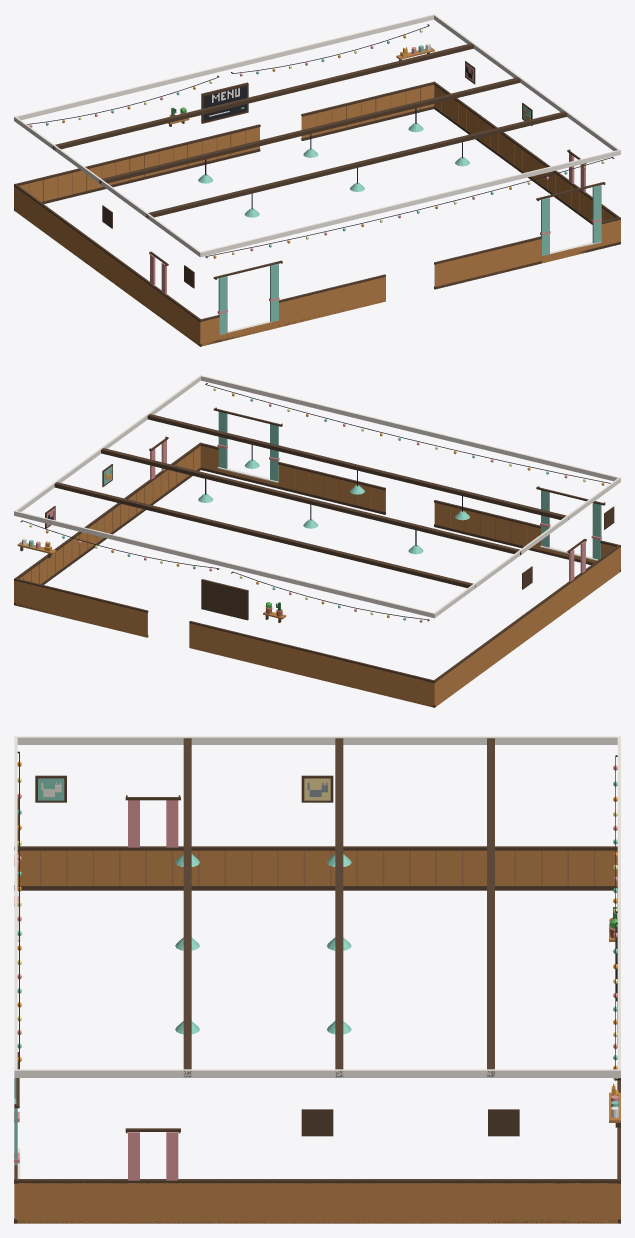
The model's file is CatCafe_Plot_Interior_60x46.glb.
The picture shows the model from 3 angles, top to bottom: view 1: azimuth 30°, elevation 25°; view 2: azimuth 150°, elevation 25°; view 3: azimuth 270°, elevation 25°; orthographic projection. The views are drawn at different scales.
Visible parts, largest first — view 1: CatCafe_Plot_Interior_60x46, CatCafe_Plot_Interior_60x46_StringLights_Bulbs; view 2: CatCafe_Plot_Interior_60x46, CatCafe_Plot_Interior_60x46_StringLights_Bulbs; view 3: CatCafe_Plot_Interior_60x46, CatCafe_Plot_Interior_60x46_StringLights_Bulbs.
Boxes of the visible parts, x1=… form: CatCafe_Plot_Interior_60x46: x1=14, y1=14, x2=620, y2=346; CatCafe_Plot_Interior_60x46_StringLights_Bulbs: x1=29, y1=29, x2=604, y2=258; CatCafe_Plot_Interior_60x46: x1=14, y1=375, x2=620, y2=707; CatCafe_Plot_Interior_60x46_StringLights_Bulbs: x1=29, y1=388, x2=604, y2=622; CatCafe_Plot_Interior_60x46: x1=14, y1=736, x2=620, y2=1223; CatCafe_Plot_Interior_60x46_StringLights_Bulbs: x1=17, y1=762, x2=617, y2=1080.
Size of the model in its own units: 60.02 by 12.8 by 46.03.
Materials: 1 (1 with a texture image).
